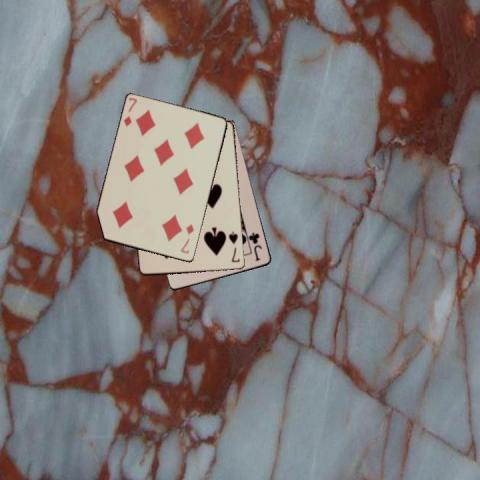7d: (178, 222, 196, 256), (120, 95, 138, 128)
7s: (226, 229, 241, 264)
Jc: (247, 229, 263, 262)
